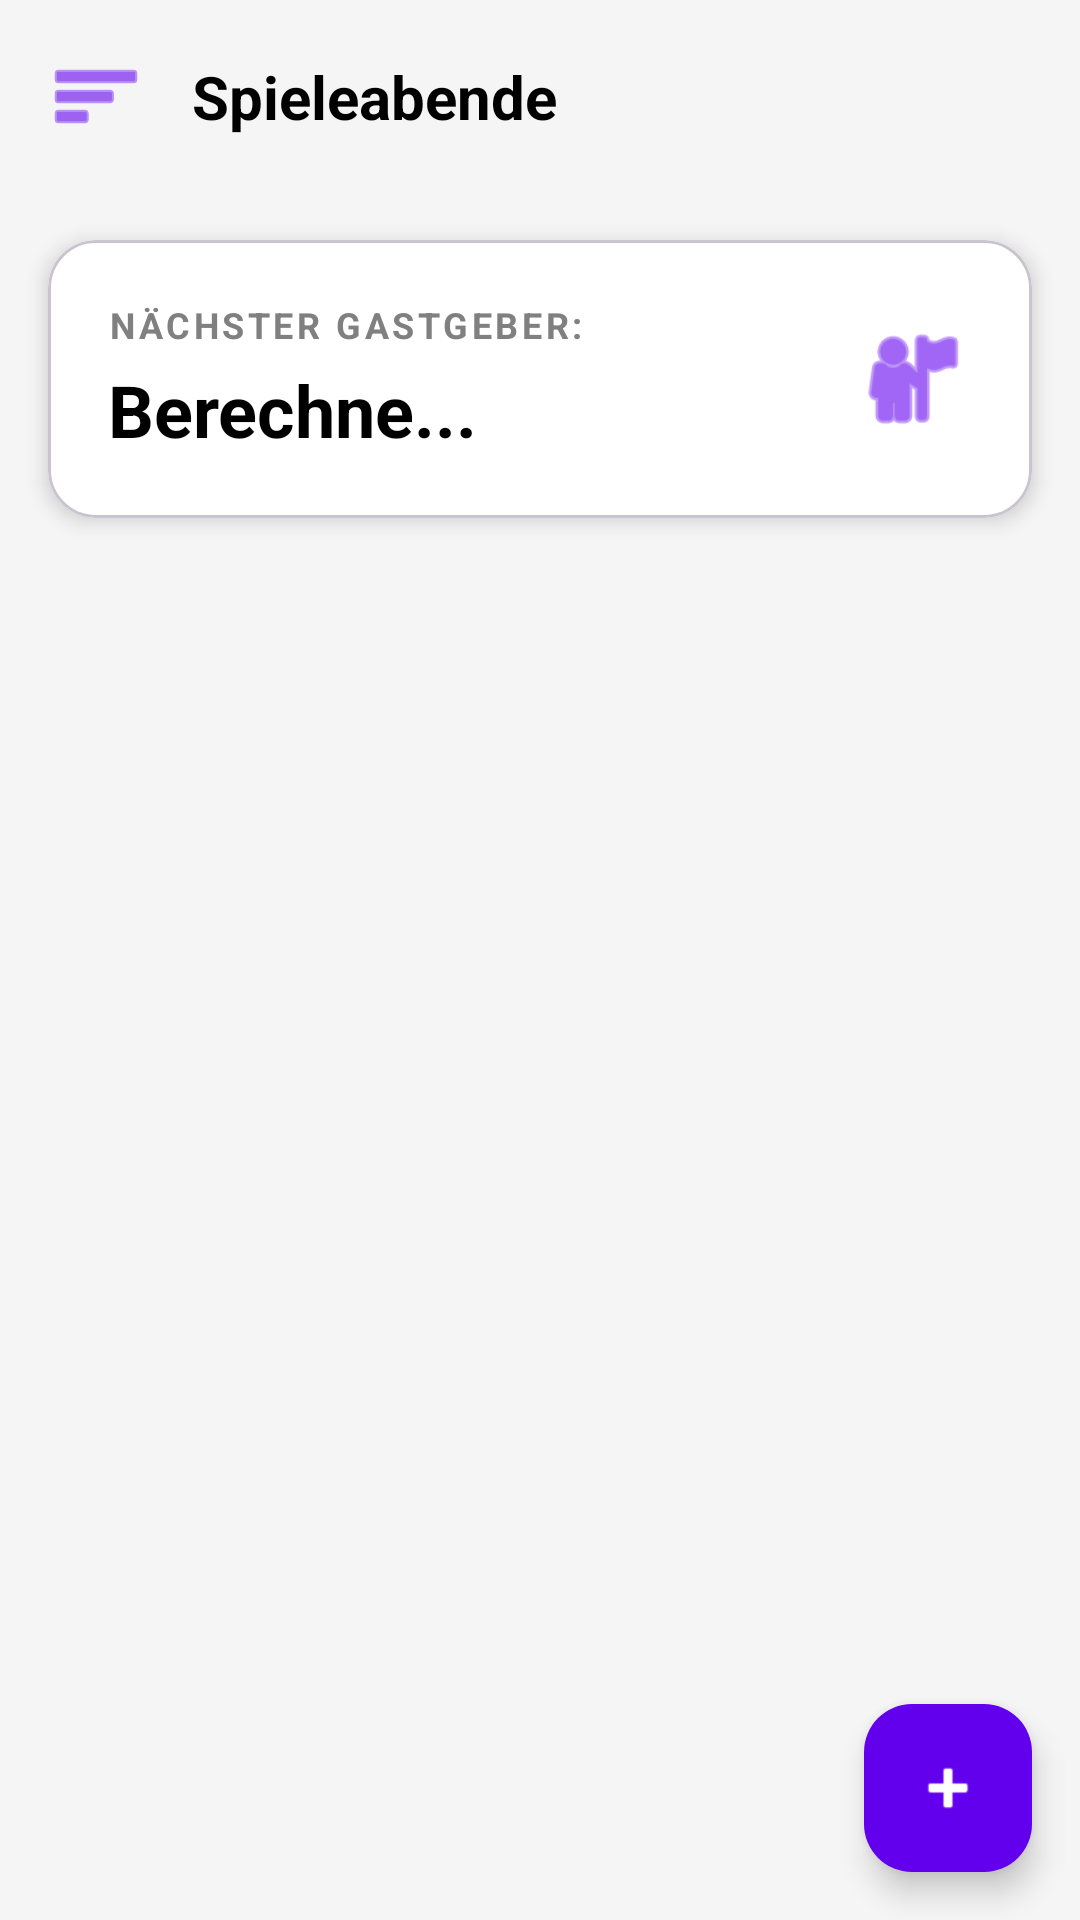

Icons on this 1080 x 1920 Android screen, each with the point to tap as point (x, y):
add: point (948, 1788)
Menü: point (96, 96)
